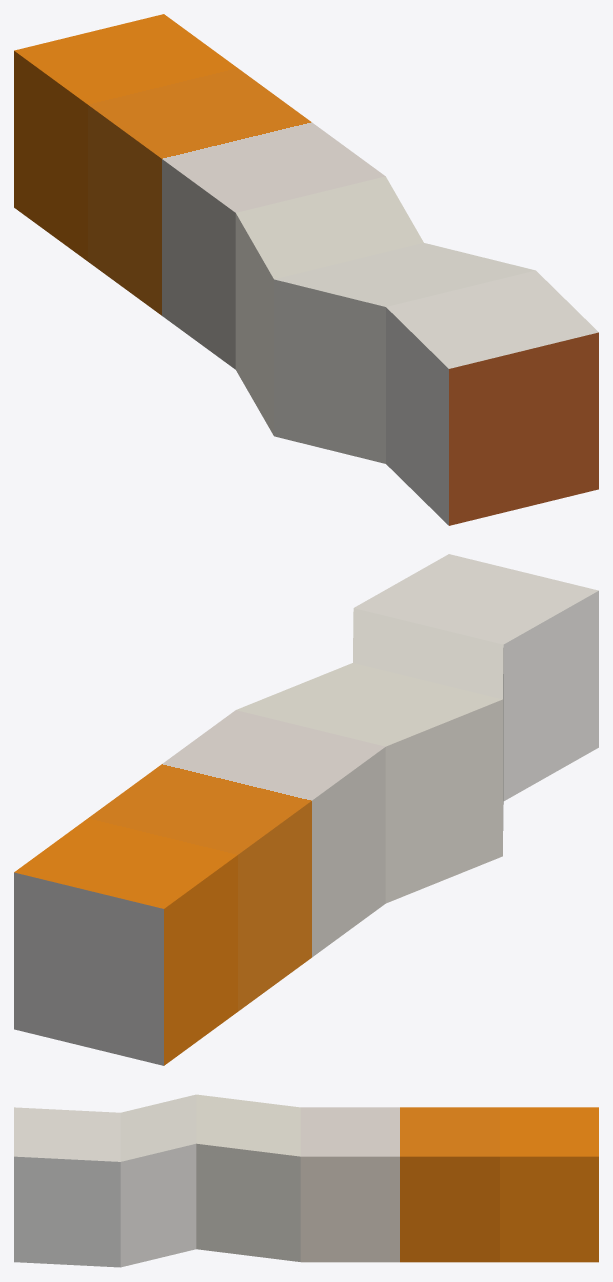
The model's file is Cigarette02.glb.
The picture shows the model from 3 angles, top to bottom: view 1: azimuth 30°, elevation 25°; view 2: azimuth 150°, elevation 25°; view 3: azimuth 270°, elevation 25°; orthographic projection. The views are drawn at different scales.
Parts seen in each view (by area): view 1: Cigarette02; view 2: Cigarette02; view 3: Cigarette02.
Boxes of the visible parts, x1,y1,x2,y2 form: Cigarette02: (14,14,598,525); Cigarette02: (14,554,598,1065); Cigarette02: (14,1094,598,1267).
Bounding box in the file's own units: 0.0274 × 0.02 × 0.1005.
1 material, 1 textured.
